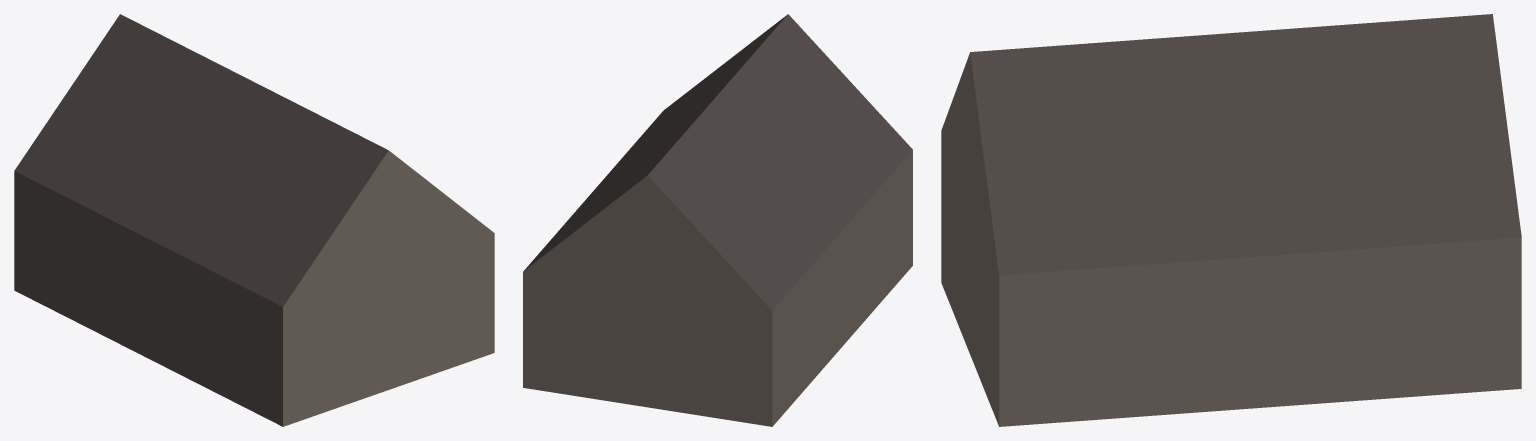
3 renders of one model, left to right at view 1: azimuth 30°, elevation 25°; view 2: azimuth 150°, elevation 25°; view 3: azimuth 270°, elevation 25°, orthographic. The views are drawn at different scales.
Visible parts, largest first — view 1: HP-w428179918; view 2: HP-w428179918; view 3: HP-w428179918.
Boxes of the visible parts, <box> form: HP-w428179918: <box>14,14,494,426</box>; HP-w428179918: <box>523,14,912,426</box>; HP-w428179918: <box>941,14,1521,426</box>.
Bounding box in the file's own units: 7.77 × 6 × 10.43.
